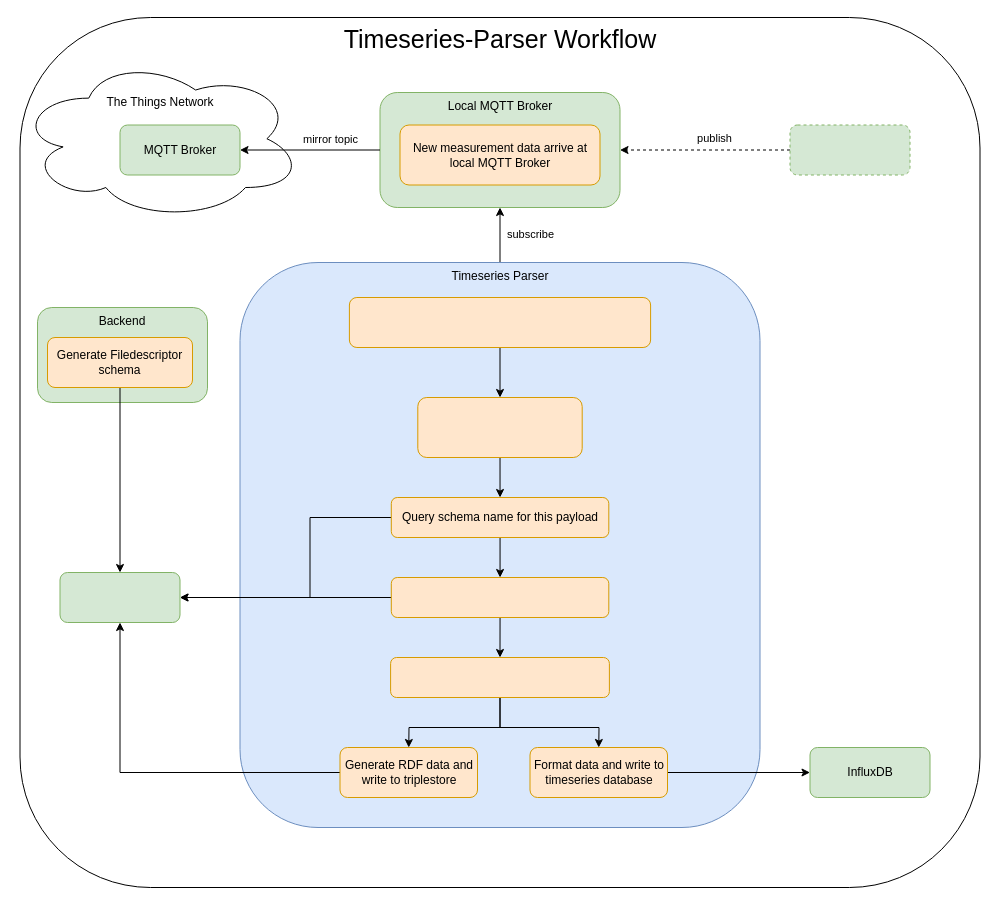
Image size: 998x905. Some labels were removed from this diagram. Here are the shapes that lost their labels. From the top down, the centre of each, then its label:
(849,149): TTN Mock
(499,322): MQTT Client receives new timeseries data
(499,427): Extract relevant metadata - Device ID - Application name - Timestamp
(119,597): Triplestore
(499,597): Get newest version of FileDescriptor schema if not already cached
(499,677): Decode Protobuf Payload
